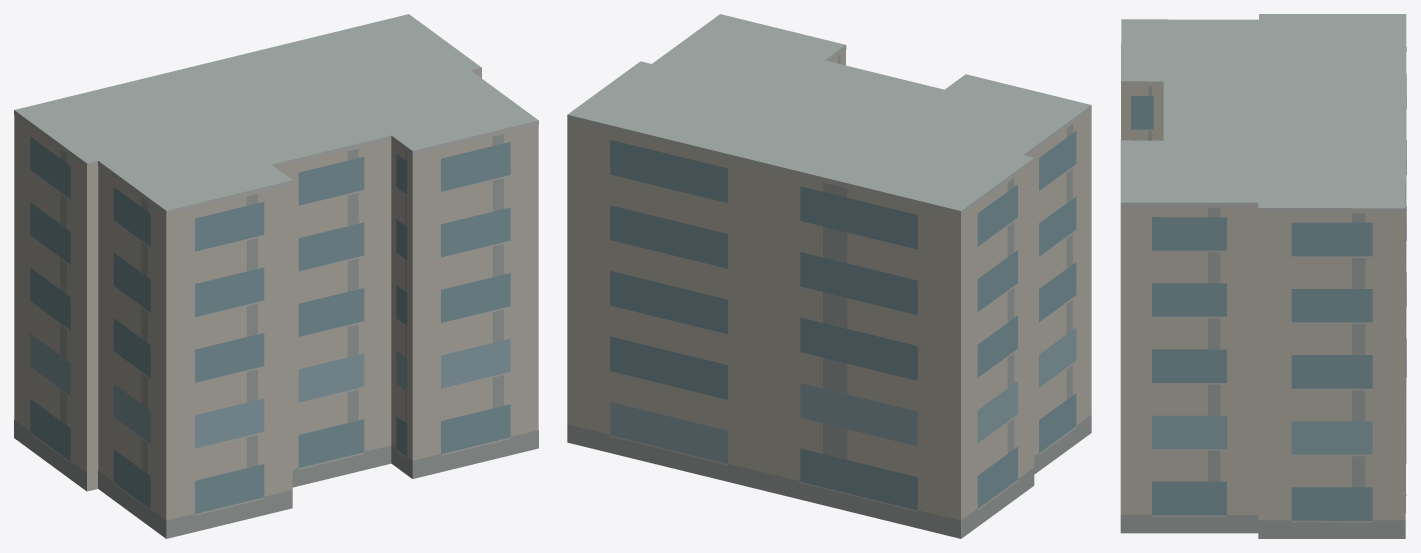
File: survey-upis-32915758.glb
The picture shows the model from 3 angles, left to right: view 1: azimuth 30°, elevation 25°; view 2: azimuth 150°, elevation 25°; view 3: azimuth 270°, elevation 25°; orthographic projection.
Parts seen in each view (by area): view 1: survey-upis-32915758.tmp; view 2: survey-upis-32915758.tmp; view 3: survey-upis-32915758.tmp.
Part boxes in pixels (x1=…): survey-upis-32915758.tmp: x1=14, y1=14, x2=538, y2=538; survey-upis-32915758.tmp: x1=567, y1=14, x2=1091, y2=538; survey-upis-32915758.tmp: x1=1120, y1=14, x2=1406, y2=538.
Bounding box in the file's own units: 19.41 × 15.4 × 12.09.
